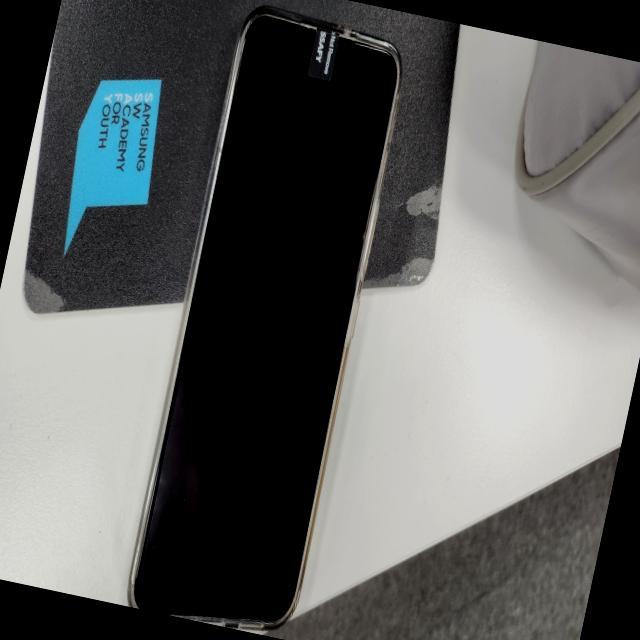phone: (120, 3, 418, 640)
sticker: (308, 24, 340, 78)
